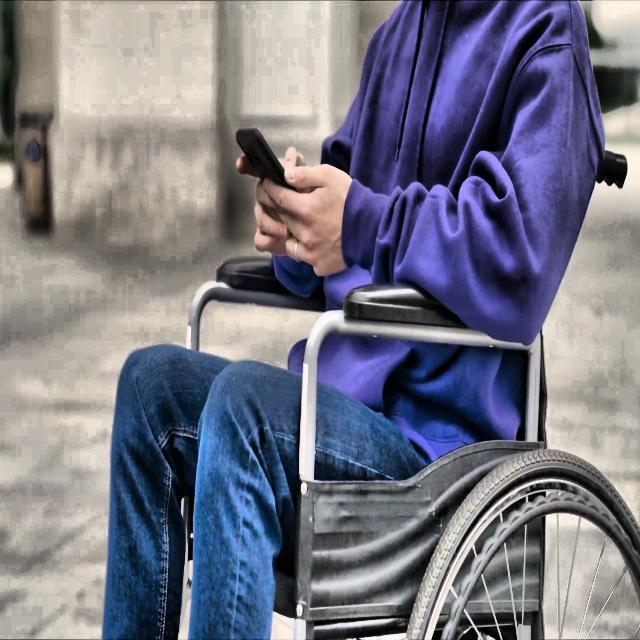Phone: (234, 122, 302, 194)
